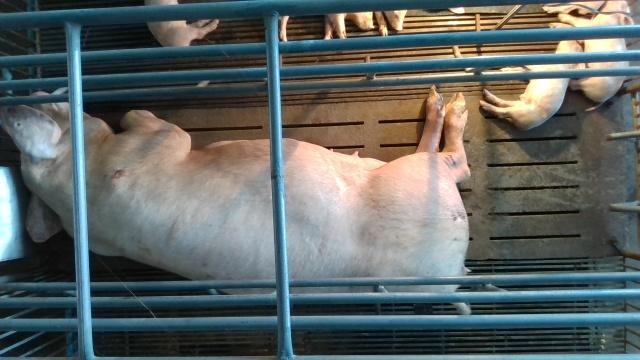piglet: (481, 38, 586, 131), (552, 2, 635, 104), (142, 0, 219, 48)
sow-sleep: (0, 85, 472, 314)
